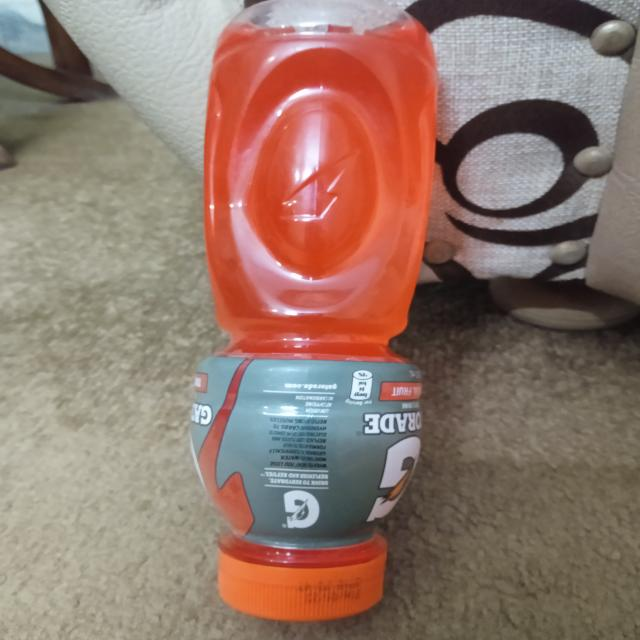Plastic: (174, 10, 474, 628)
